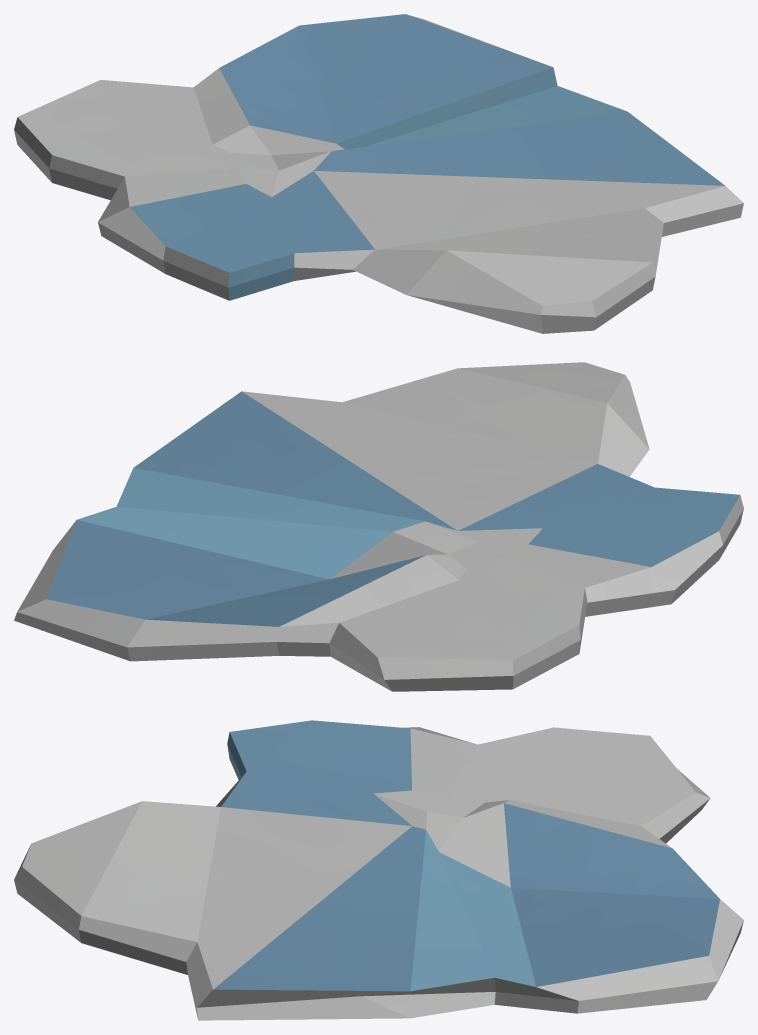
File: rubble_1.glb
3 views of the same model, one above another, from view 1: azimuth 30°, elevation 25°; view 2: azimuth 150°, elevation 25°; view 3: azimuth 270°, elevation 25° (orthographic). The views are drawn at different scales.
Visible parts, largest first — view 1: rubble_1; view 2: rubble_1; view 3: rubble_1.
Boxes of the visible parts, x1,y1,x2,y2 form: rubble_1: (14, 14, 743, 333); rubble_1: (14, 362, 743, 691); rubble_1: (14, 720, 743, 1020).
Bounding box in the file's own units: 1.74 × 0.2124 × 2.12.
1 material, 1 textured.
